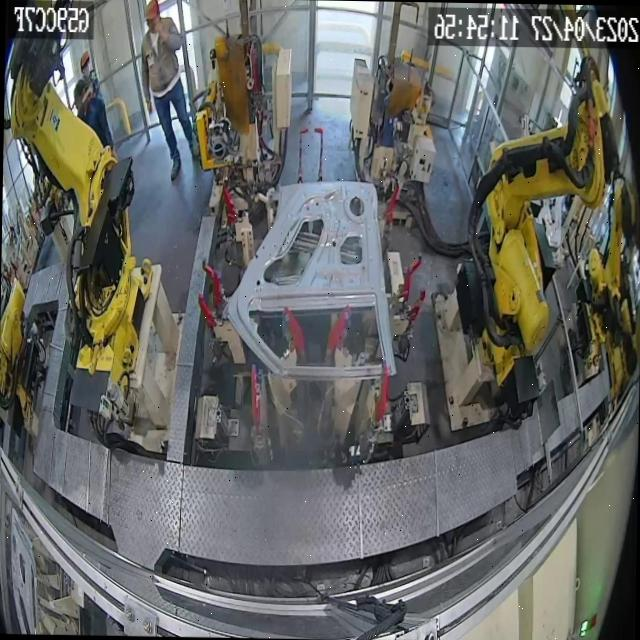Person: (138, 0, 200, 180), (72, 49, 117, 158)
